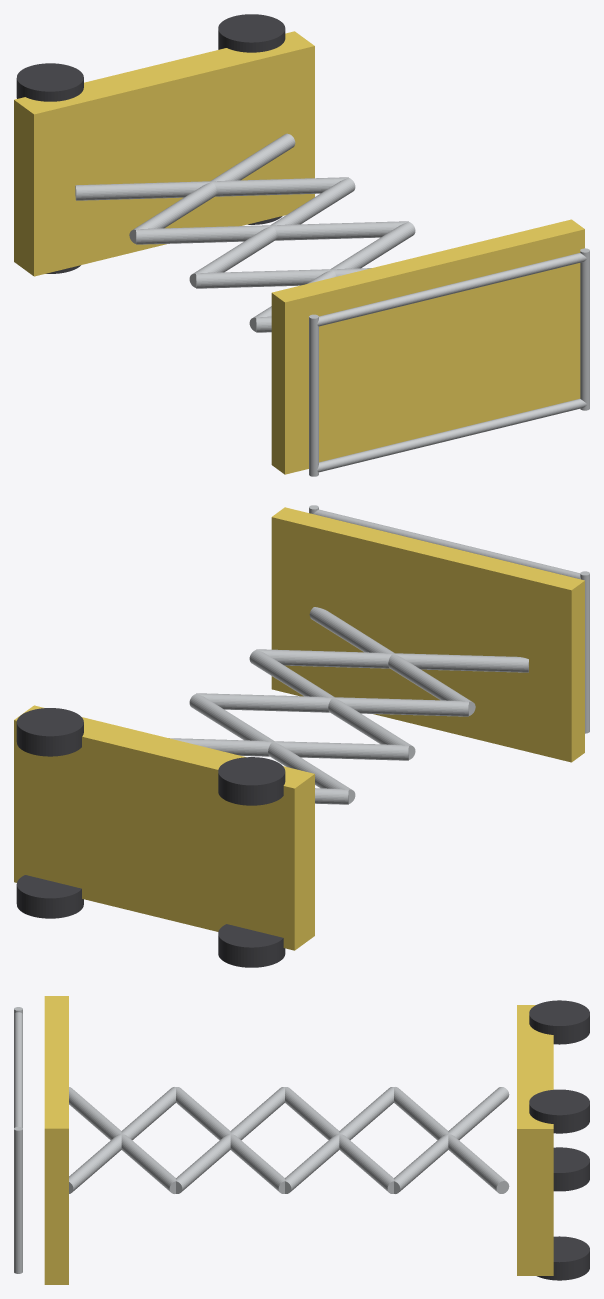
File: scissor_lift_raised.glb
3 views of the same model, one above another, from view 1: azimuth 30°, elevation 25°; view 2: azimuth 150°, elevation 25°; view 3: azimuth 270°, elevation 25° (orthographic). The views are drawn at different scales.
Parts seen in each view (by area): view 1: part_13, part_0, part_5, part_7, part_16, part_17, part_6, part_8, part_2, part_4, part_9, part_10 (+2 smaller); view 2: part_13, part_0, part_10, part_12, part_8, part_2, part_4, part_9, part_11, part_7, part_3, part_1 (+2 smaller); view 3: part_0, part_13, part_4, part_2, part_5, part_6, part_9, part_10, part_7, part_8, part_12, part_11 (+4 smaller).
Part boxes in pixels (left/top/right/bottom): part_13: left=271, top=219, right=584, bottom=474; part_0: left=14, top=31, right=314, bottom=276; part_5: left=75, top=177, right=348, bottom=200; part_7: left=136, top=221, right=408, bottom=244; part_16: left=316, top=398, right=587, bottom=472; part_17: left=316, top=253, right=587, bottom=326; part_6: left=129, top=133, right=295, bottom=243; part_8: left=189, top=178, right=355, bottom=287; part_2: left=16, top=63, right=83, bottom=101; part_4: left=218, top=14, right=285, bottom=52; part_9: left=196, top=268, right=371, bottom=288; part_10: left=249, top=222, right=415, bottom=331; part_13: left=271, top=507, right=584, bottom=762; part_0: left=14, top=705, right=314, bottom=950; part_10: left=196, top=693, right=468, bottom=716; part_12: left=256, top=649, right=528, bottom=672; part_8: left=169, top=738, right=408, bottom=760; part_2: left=218, top=757, right=285, bottom=805; part_4: left=16, top=708, right=83, bottom=756; part_9: left=249, top=650, right=415, bottom=759; part_11: left=309, top=607, right=475, bottom=715; part_7: left=189, top=694, right=355, bottom=803; part_3: left=16, top=875, right=83, bottom=918; part_1: left=218, top=924, right=285, bottom=967; part_0: left=517, top=1005, right=553, bottom=1275; part_13: left=44, top=996, right=68, bottom=1284; part_4: left=529, top=1089, right=589, bottom=1133; part_2: left=529, top=1000, right=589, bottom=1044; part_5: left=394, top=1087, right=509, bottom=1193; part_6: left=394, top=1087, right=509, bottom=1193; part_9: left=176, top=1087, right=284, bottom=1193; part_10: left=176, top=1087, right=284, bottom=1193; part_7: left=285, top=1087, right=393, bottom=1193; part_8: left=285, top=1087, right=393, bottom=1193; part_12: left=69, top=1087, right=175, bottom=1193; part_11: left=69, top=1087, right=175, bottom=1193.
Bounding box in the file's own units: 1.55 × 0.9 × 2.84.
